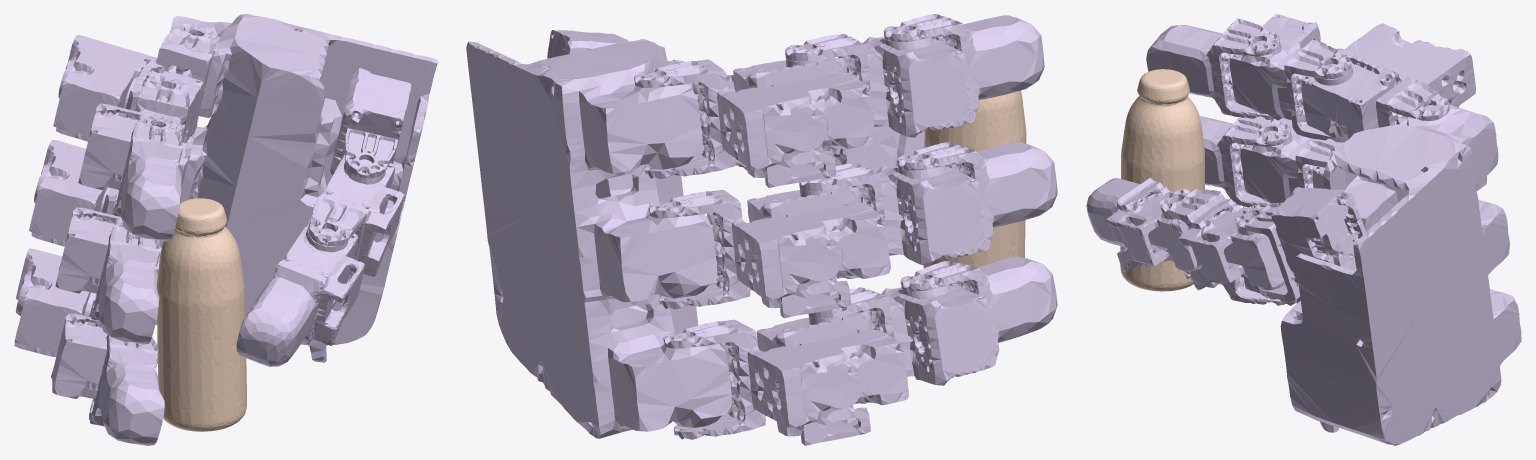
File: 334b868496df9e-closed.glb
3 views of the same model, side by side, from view 1: azimuth 30°, elevation 25°; view 2: azimuth 150°, elevation 25°; view 3: azimuth 270°, elevation 25° (orthographic). The views are drawn at different scales.
Visible parts, largest first — view 1: LEAP_hand, world; view 2: LEAP_hand, world; view 3: LEAP_hand, world.
Boxes of the visible parts, box(x1,y1,x2,y2) form: LEAP_hand: box(14, 14, 437, 445); world: box(156, 198, 246, 431); LEAP_hand: box(466, 14, 1057, 445); world: box(923, 90, 1026, 268); LEAP_hand: box(1086, 14, 1521, 445); world: box(1120, 69, 1204, 291).
Size of the model in its own units: 0.1882 by 0.1357 by 0.1766.
